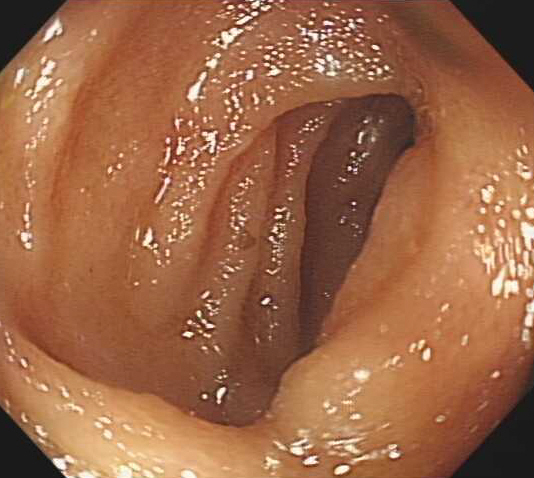others: (269, 329, 446, 447)
